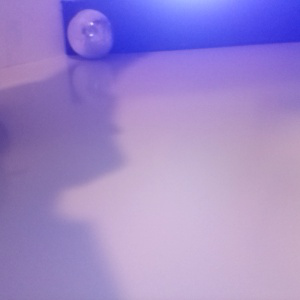alive_ball: (67, 8, 114, 60)
